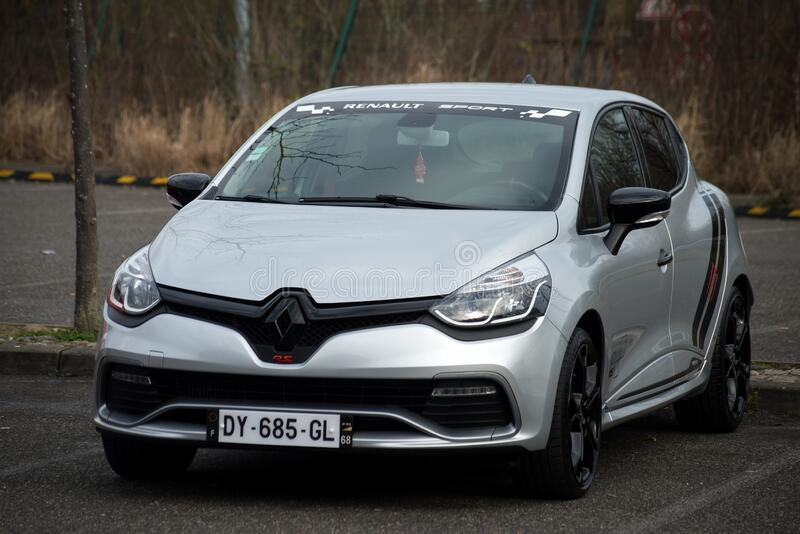Renault: (255, 285, 310, 365)
